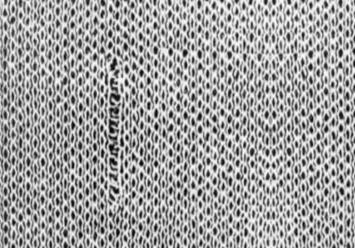slub: (103, 58, 124, 213)
